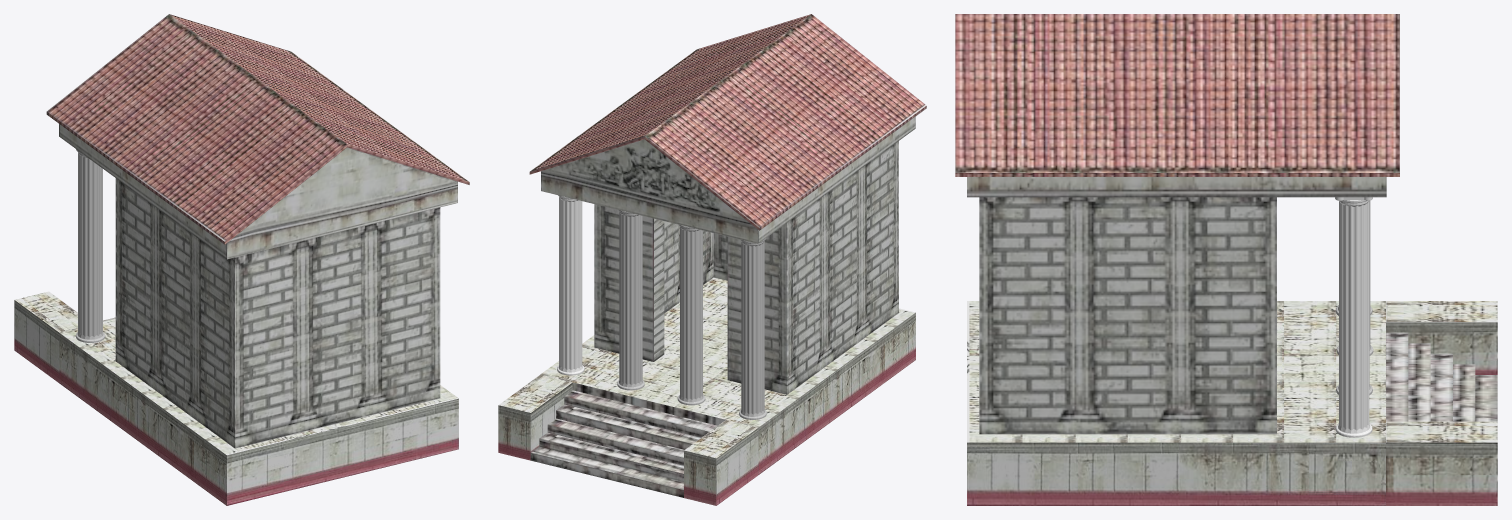
The model's file is temple.fbx.
3 renders of one model, left to right at view 1: azimuth 30°, elevation 25°; view 2: azimuth 150°, elevation 25°; view 3: azimuth 270°, elevation 25°, orthographic. The views are drawn at different scales.
Parts seen in each view (by area): view 1: Walls, Roof, Plane, Plane.012, Plane.008; view 2: Roof, Walls, Plane, Plane.008, Plane.012, Plane.010, Plane.009, Plane.011, Plane.001, Plane.003, Plane.007, Plane.004 (+2 smaller); view 3: Roof, Walls, Plane, Plane.001, Plane.009, Plane.008, Plane.007, Plane.006, Plane.005, Plane.004, Plane.003.
Part boxes in pixels (left/top/right/bottom): Walls: left=115, top=178, right=440, bottom=448; Roof: left=46, top=14, right=469, bottom=259; Plane: left=59, top=319, right=458, bottom=505; Plane.012: left=75, top=149, right=105, bottom=342; Plane.008: left=14, top=291, right=77, bottom=382; Roof: left=529, top=14, right=926, bottom=243; Walls: left=594, top=141, right=898, bottom=394; Plane: left=540, top=277, right=915, bottom=474; Plane.008: left=684, top=420, right=758, bottom=505; Plane.012: left=739, top=238, right=766, bottom=419; Plane.010: left=617, top=210, right=644, bottom=390; Plane.009: left=557, top=195, right=584, bottom=375; Plane.011: left=677, top=224, right=705, bottom=405; Plane.001: left=498, top=374, right=572, bottom=460; Plane.003: left=530, top=446, right=683, bottom=497; Plane.007: left=564, top=390, right=717, bottom=437; Plane.004: left=539, top=432, right=683, bottom=481; Roof: left=955, top=14, right=1399, bottom=197; Walls: left=979, top=197, right=1276, bottom=434; Plane: left=967, top=301, right=1385, bottom=505; Plane.001: left=1386, top=421, right=1497, bottom=505; Plane.009: left=1335, top=197, right=1372, bottom=437; Plane.008: left=1386, top=301, right=1497, bottom=374; Plane.007: left=1386, top=332, right=1408, bottom=421; Plane.006: left=1408, top=343, right=1430, bottom=421; Plane.005: left=1430, top=353, right=1452, bottom=421; Plane.004: left=1453, top=364, right=1475, bottom=421; Plane.003: left=1475, top=375, right=1497, bottom=421.
Bounding box in the file's own units: 253 × 333 × 388.
12 materials, 11 textured.
